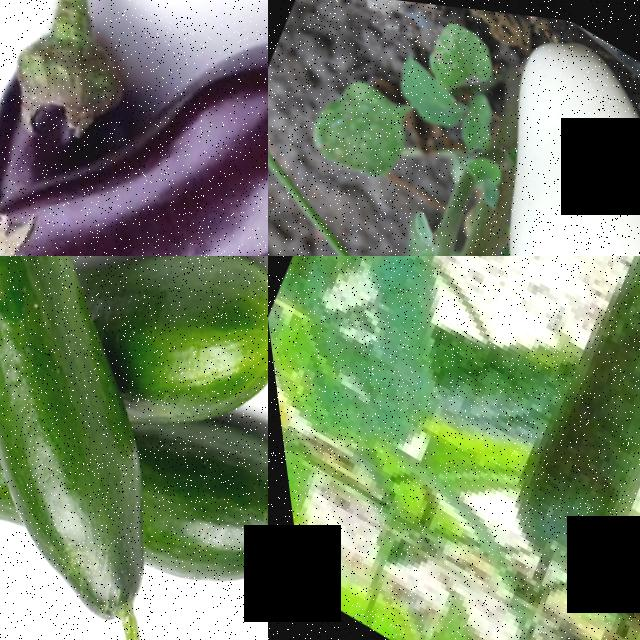cucumber: (447, 256, 640, 603), (0, 328, 206, 632), (106, 386, 268, 640), (75, 256, 268, 454)
eggplant: (351, 0, 640, 256), (0, 0, 268, 256)
